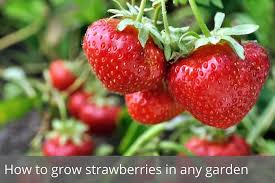Fresa: (166, 30, 271, 131), (79, 12, 168, 98)
